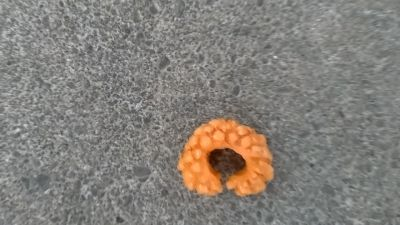eggs: (179, 117, 275, 196)
